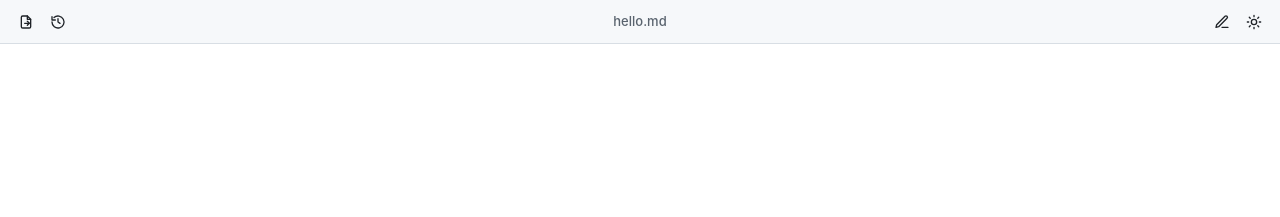
Test: Toolbar › shows recent files in a menu
Click the button named "Open recent files".
click(58, 22)  # box [44,8,72,36]
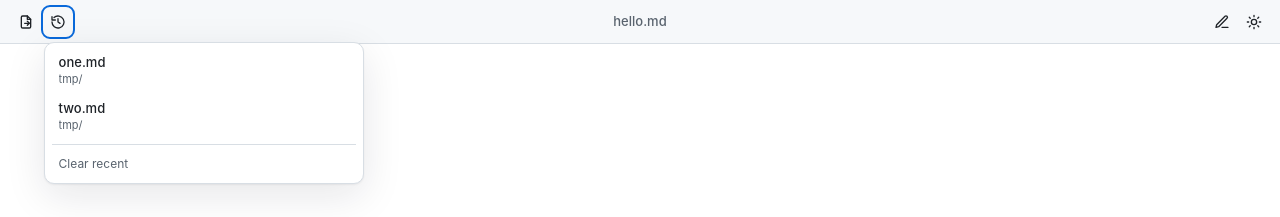
expect the element with test id "recent-list" shows "one.md": met, box [49,46,359,93]
expect the element with test id "recent-list" shows "two.md": met, box [49,93,359,140]
